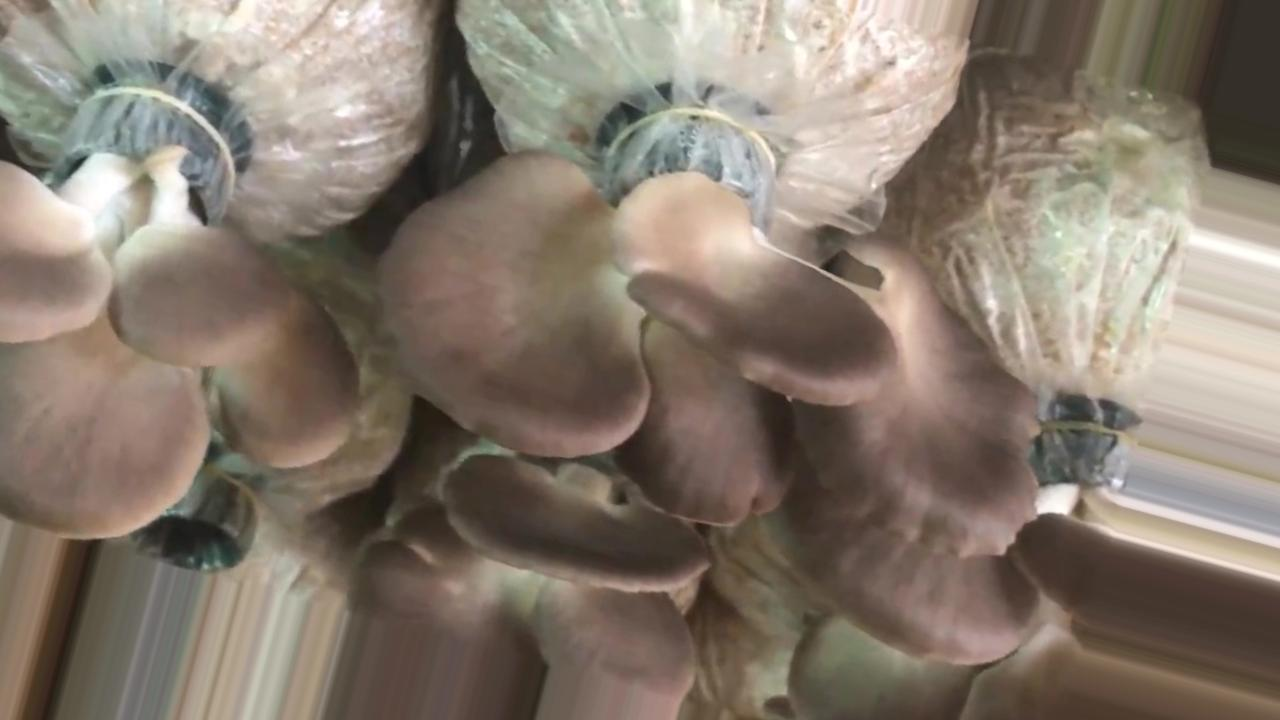nam: (384, 112, 1037, 591), (763, 395, 1280, 720), (1, 81, 357, 537), (348, 498, 692, 716)
